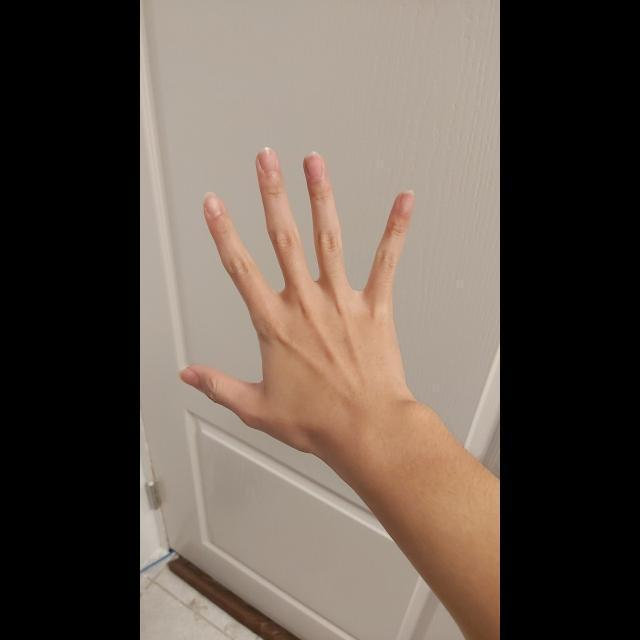bare_hand: (178, 146, 416, 442)
